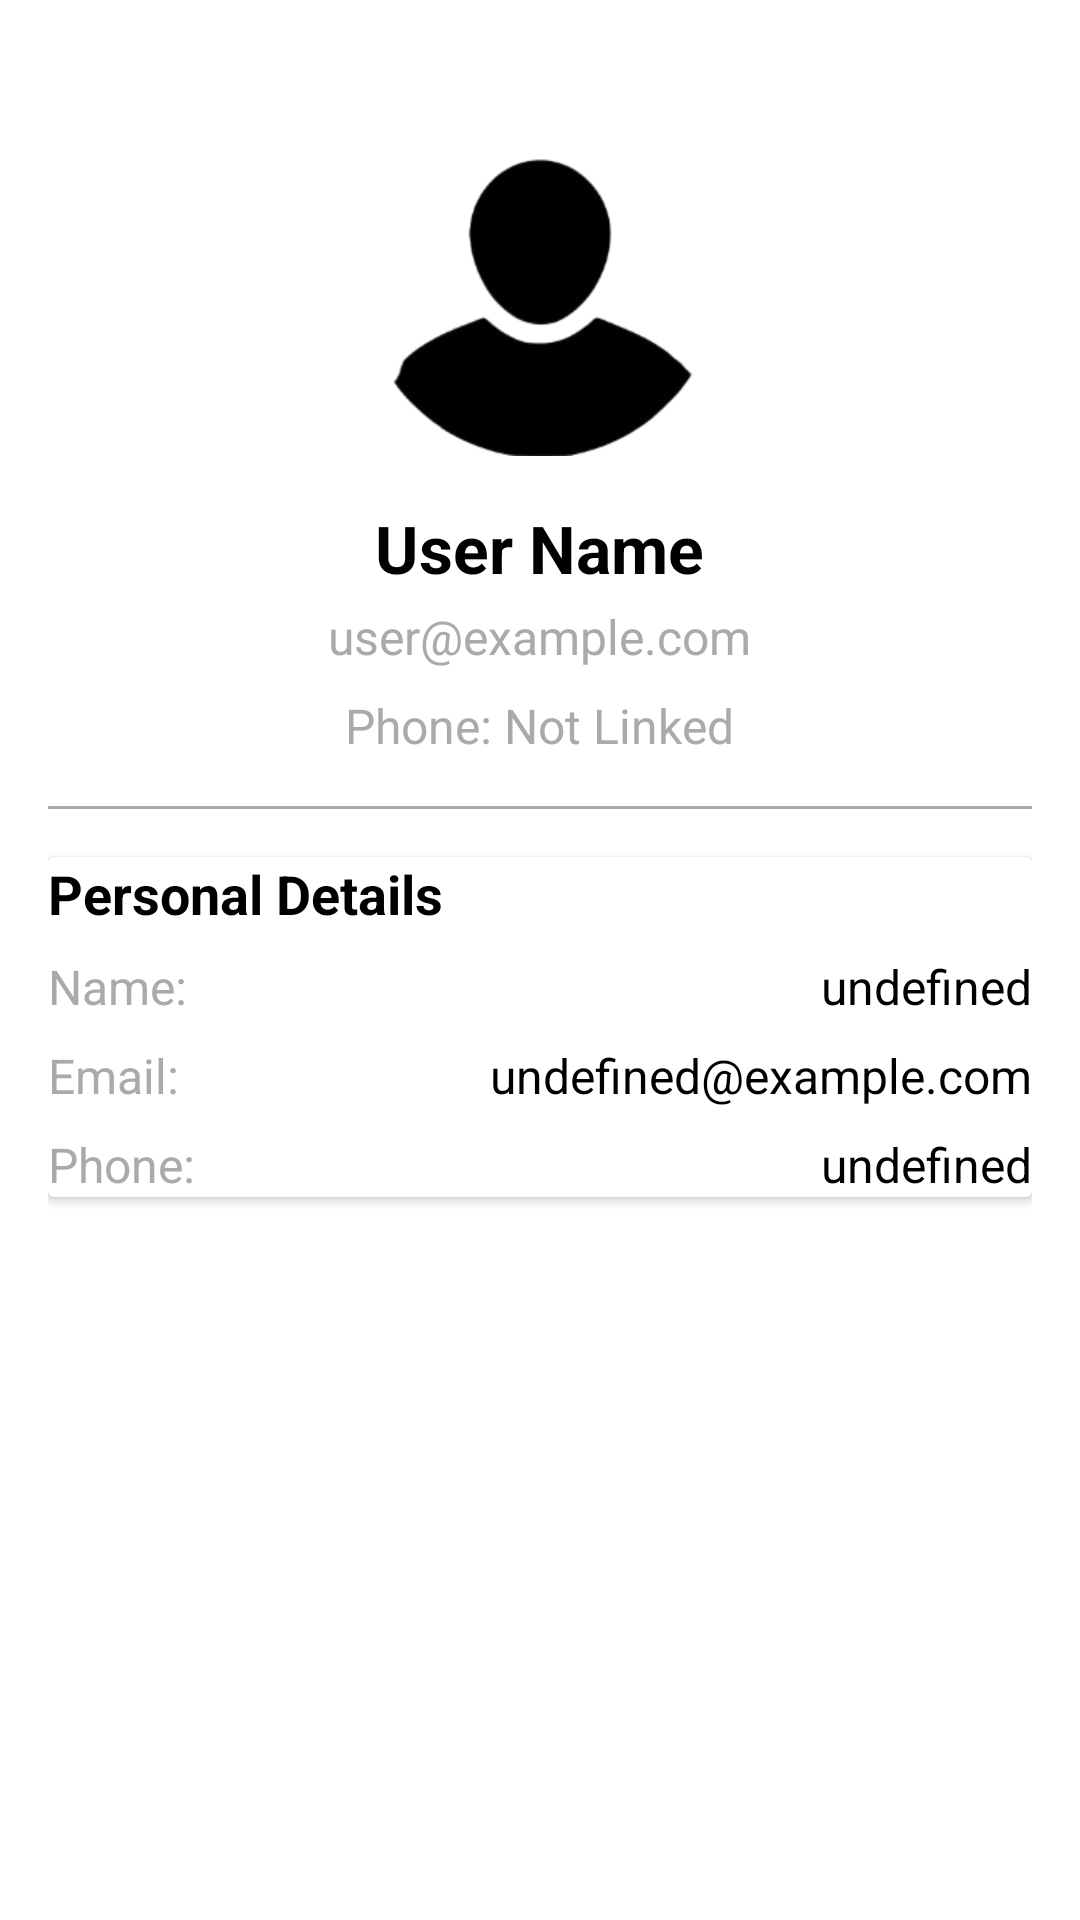

Icons on this 1080px×1920px Android screen, each with its box as Rect(x1, y1, x2, y2):
User Profile Picture: Rect(393, 159, 692, 456)
